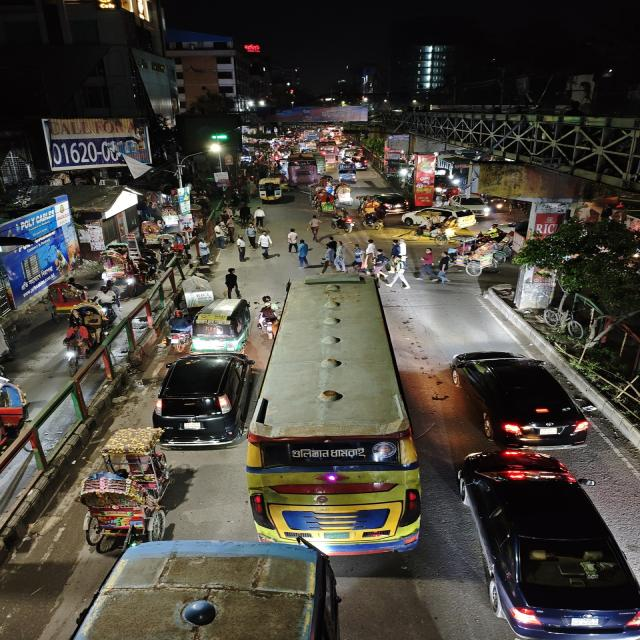bus: (247, 278, 422, 556), (0, 195, 77, 328), (316, 146, 338, 163)
car: (453, 444, 640, 638), (446, 346, 592, 448), (150, 350, 255, 447), (450, 196, 492, 217), (380, 191, 410, 215)
cng: (192, 298, 252, 352), (94, 0, 121, 12)
human_hauler: (256, 178, 286, 203)
motorcycle: (161, 307, 192, 351), (255, 296, 279, 330), (332, 208, 358, 234), (362, 212, 384, 230)
pedestrian: (95, 282, 122, 318), (223, 267, 242, 297), (322, 235, 343, 261), (389, 238, 408, 266), (436, 250, 453, 280), (233, 234, 251, 262), (294, 239, 312, 267), (256, 231, 274, 259), (195, 238, 213, 266), (305, 215, 323, 242), (389, 247, 407, 271), (419, 248, 435, 274), (212, 224, 228, 250), (284, 227, 299, 253), (351, 242, 366, 267), (253, 206, 268, 228), (246, 223, 259, 244), (365, 238, 378, 255)
pickup_van: (336, 165, 362, 182)
rickshaw: (76, 426, 173, 550), (410, 213, 463, 246), (43, 279, 84, 321), (93, 246, 139, 283), (66, 304, 108, 342), (460, 246, 501, 277), (289, 160, 317, 187), (314, 191, 338, 213), (334, 184, 358, 205)
